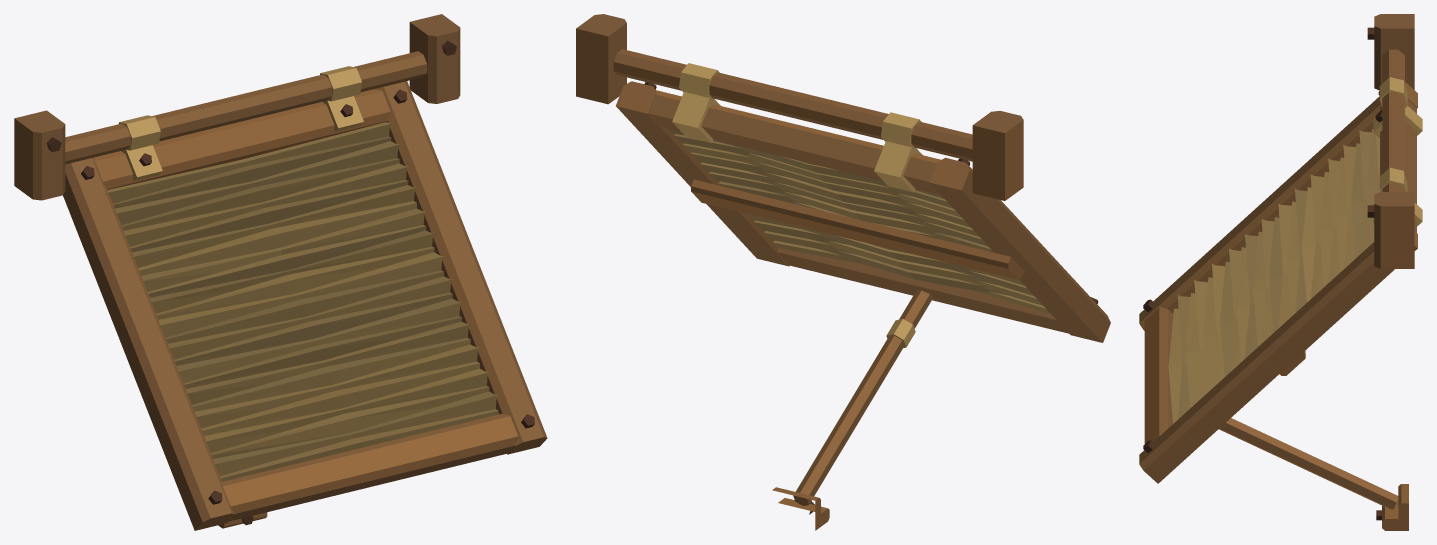
The model's file is top-hinged-survival-shutter-cd9054.glb.
3 views of the same model, side by side, from view 1: azimuth 30°, elevation 25°; view 2: azimuth 150°, elevation 25°; view 3: azimuth 270°, elevation 25° (orthographic). The views are drawn at different scales.
Parts seen in each view (by area): view 1: shutter-leaf, frame-static; view 2: shutter-leaf, frame-static, prop-stick-mesh; view 3: shutter-leaf, frame-static, prop-stick-mesh.
Boxes of the visible parts, x1,y1,x2,y2 form: shutter-leaf: (63,66,547,530); frame-static: (14,14,460,528); shutter-leaf: (616,63,1110,342); frame-static: (576,14,1023,530); prop-stick-mesh: (793,290,932,505); shutter-leaf: (1139,77,1422,483); frame-static: (1367,14,1414,530); prop-stick-mesh: (1219,418,1398,509).
Size of the model in its own units: 1.19 by 1.19 by 0.741.
